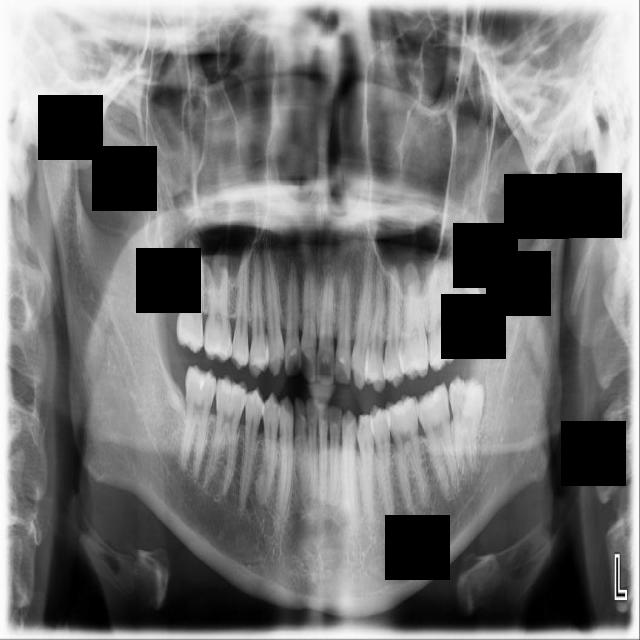73: (568, 500, 572, 512)
BioHorizons Implant: (425, 256, 457, 372)
BioLife Implant: (435, 239, 492, 347)
Biomet 3i Implant: (447, 372, 489, 478)
Blue Sky Bio Implant: (413, 381, 462, 499)
Caries: (175, 229, 204, 353)
Implant: (175, 363, 219, 478)
